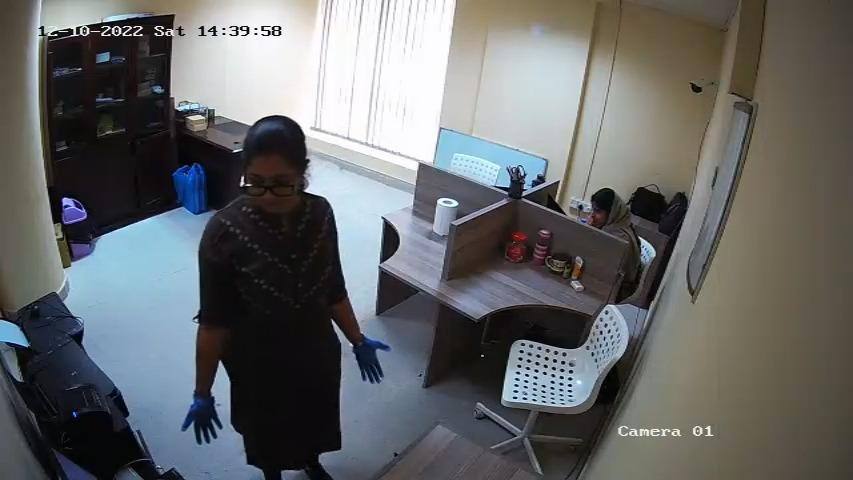gloves: (178, 394, 224, 444), (349, 335, 391, 387)
